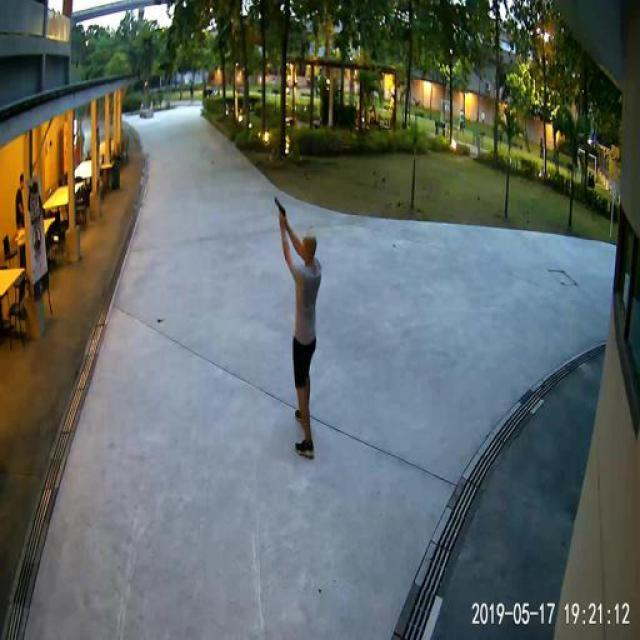weapon: (273, 197, 286, 217)
